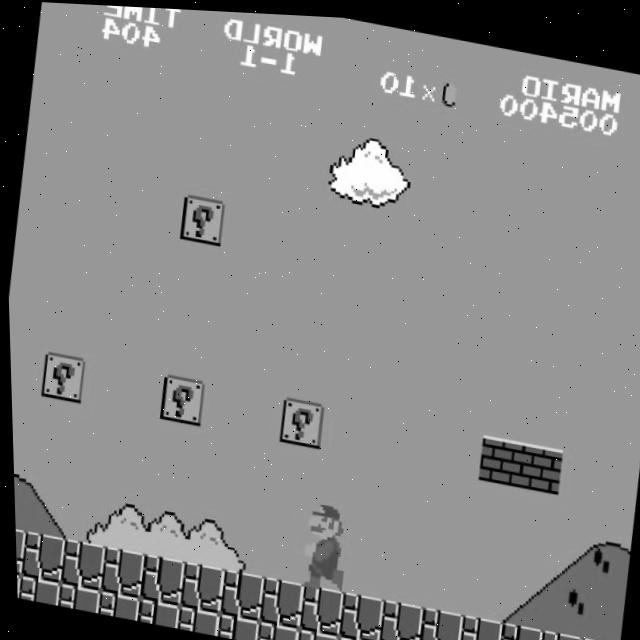0- big_mario: (296, 491, 354, 592)
1- brick_block: (474, 429, 522, 482), (514, 437, 562, 489)
13- mystery_block: (275, 393, 324, 446), (156, 372, 204, 425), (37, 351, 85, 404), (177, 193, 225, 244)
17- undestructible_block: (214, 567, 263, 620), (55, 538, 104, 591), (333, 588, 382, 640), (174, 560, 223, 612), (294, 581, 342, 634), (254, 574, 302, 627), (135, 552, 183, 605), (95, 545, 143, 598), (16, 531, 64, 584), (374, 595, 422, 640), (413, 602, 461, 640), (453, 609, 501, 640), (172, 604, 217, 634), (93, 590, 138, 620), (133, 597, 177, 627), (53, 583, 98, 612), (13, 576, 58, 605), (212, 612, 257, 640), (492, 616, 540, 640), (252, 619, 296, 640), (532, 624, 580, 640), (291, 625, 336, 640), (12, 525, 23, 576), (573, 631, 617, 640), (331, 633, 376, 640)
